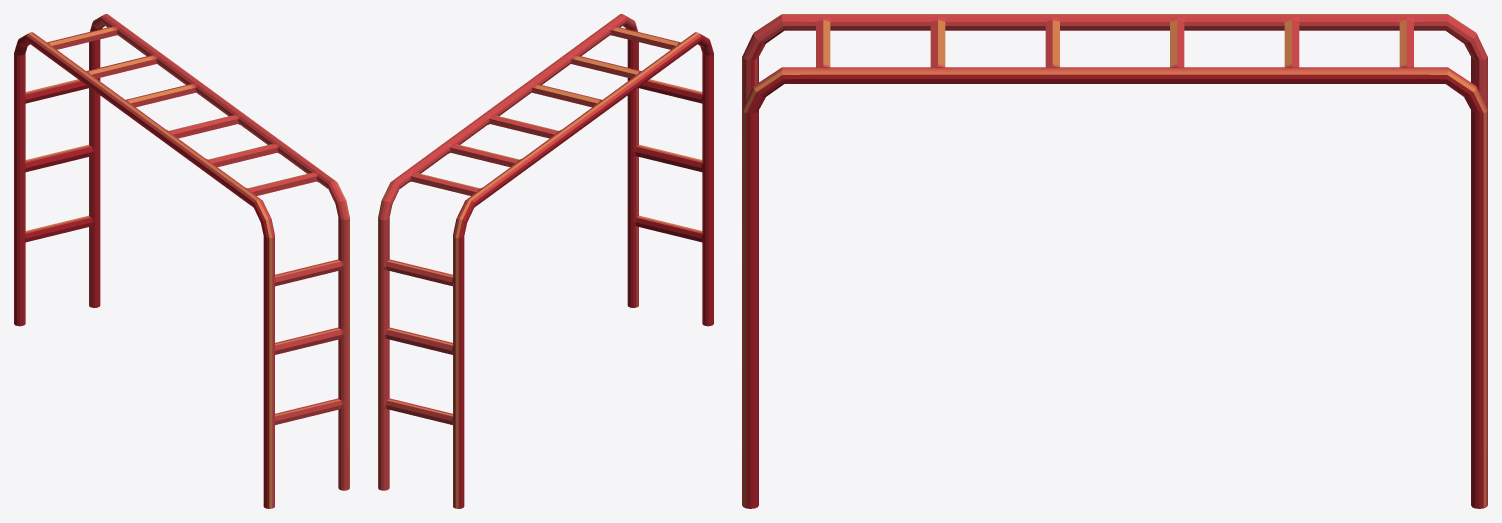
The model's file is monkey_bars.fbx.
3 views of the same model, side by side, from view 1: azimuth 30°, elevation 25°; view 2: azimuth 150°, elevation 25°; view 3: azimuth 270°, elevation 25° (orthographic). The views are drawn at different scales.
Parts seen in each view (by area): view 1: monkey-bars; view 2: monkey-bars; view 3: monkey-bars.
Part boxes in pixels (x1,y1,x2,y2): monkey-bars: (14,14,349,508); monkey-bars: (378,14,713,508); monkey-bars: (742,14,1487,508).
Bounding box in the file's own units: 64.55 × 218 × 337.
